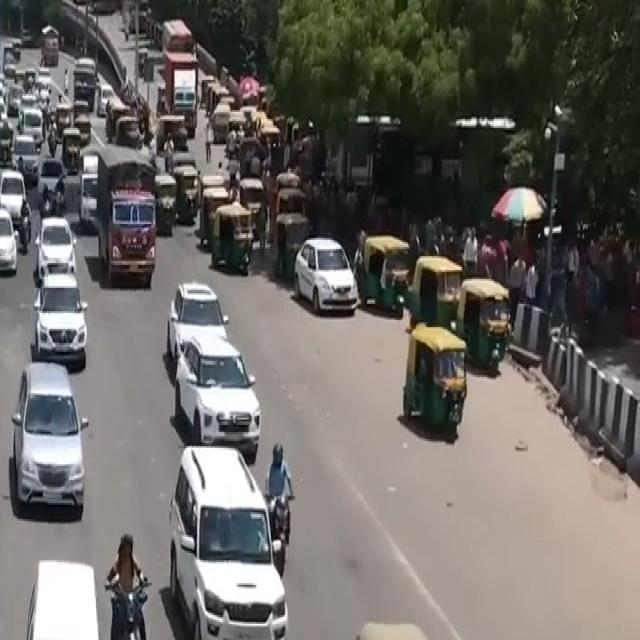car: (157, 434, 303, 640), (156, 311, 268, 475), (0, 352, 97, 532), (0, 540, 133, 640), (26, 262, 94, 381), (285, 226, 366, 322), (31, 207, 82, 284), (0, 197, 25, 279)
motorbike: (93, 522, 162, 640)
rickshaw: (392, 320, 477, 450), (325, 597, 476, 640)
van: (90, 127, 162, 290)
